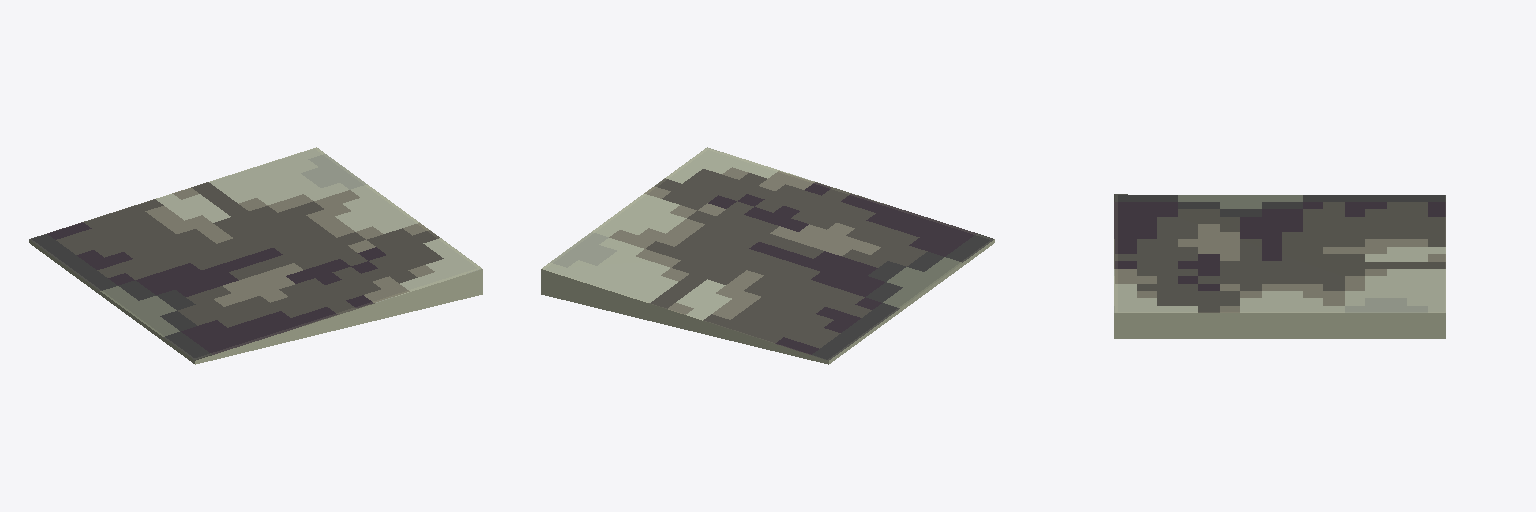
3 views of the same model, side by side, from view 1: azimuth 30°, elevation 25°; view 2: azimuth 150°, elevation 25°; view 3: azimuth 270°, elevation 25° (orthographic).
Parts seen in each view (by area): view 1: Plane_Plane.002; view 2: Plane_Plane.002; view 3: Plane_Plane.002.
Part boxes in pixels (bbox=[...]): Plane_Plane.002: bbox=[29, 147, 482, 364]; Plane_Plane.002: bbox=[541, 147, 994, 364]; Plane_Plane.002: bbox=[1114, 194, 1445, 338].
Size of the model in its own units: 0.99 by 0.084 by 0.99.
1 materials, 1 textured.